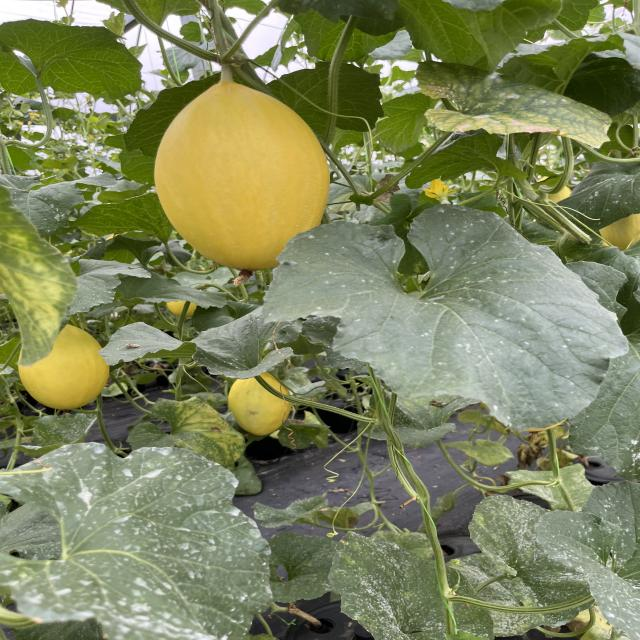CMV: (414, 57, 614, 151)
downy mildew: (0, 180, 81, 370), (125, 396, 249, 470)
healthy: (254, 198, 637, 435), (96, 303, 295, 382), (0, 17, 145, 102)
powdery mildew: (0, 438, 280, 640), (446, 491, 596, 629), (329, 527, 499, 640), (535, 476, 640, 639), (355, 393, 457, 451), (266, 531, 340, 605), (251, 493, 332, 530)
